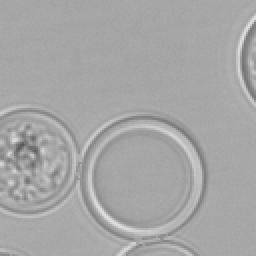picoshell: (80, 116, 204, 236), (0, 104, 76, 216), (236, 12, 254, 106), (116, 236, 196, 254)
